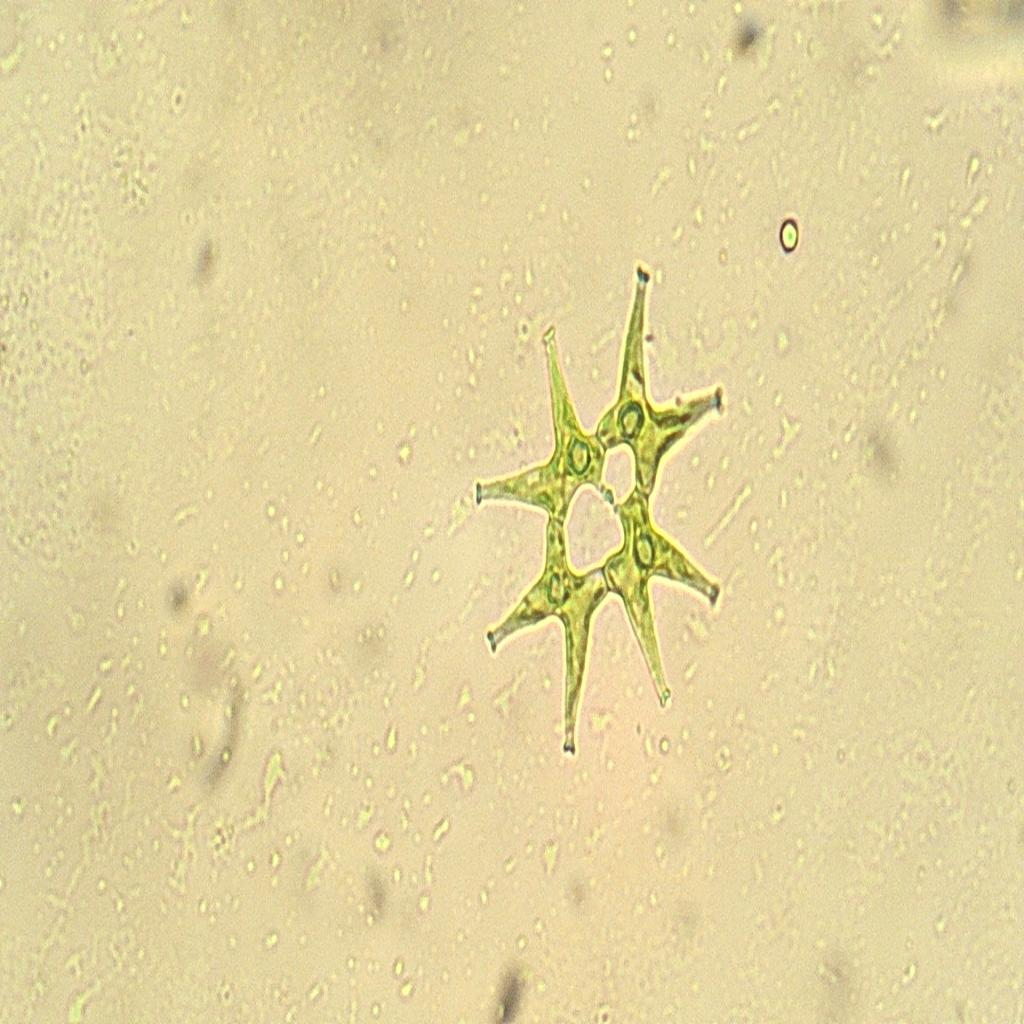Pediastrum_75FO: (472, 247, 729, 773)
